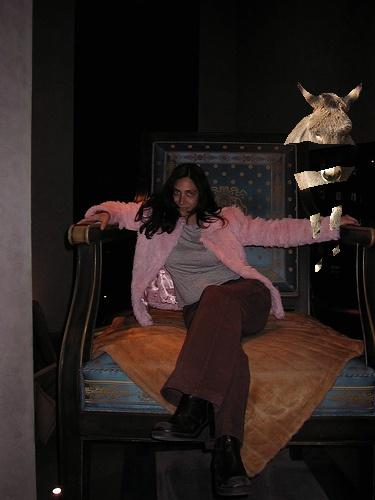tampered: (285, 83, 362, 272)
